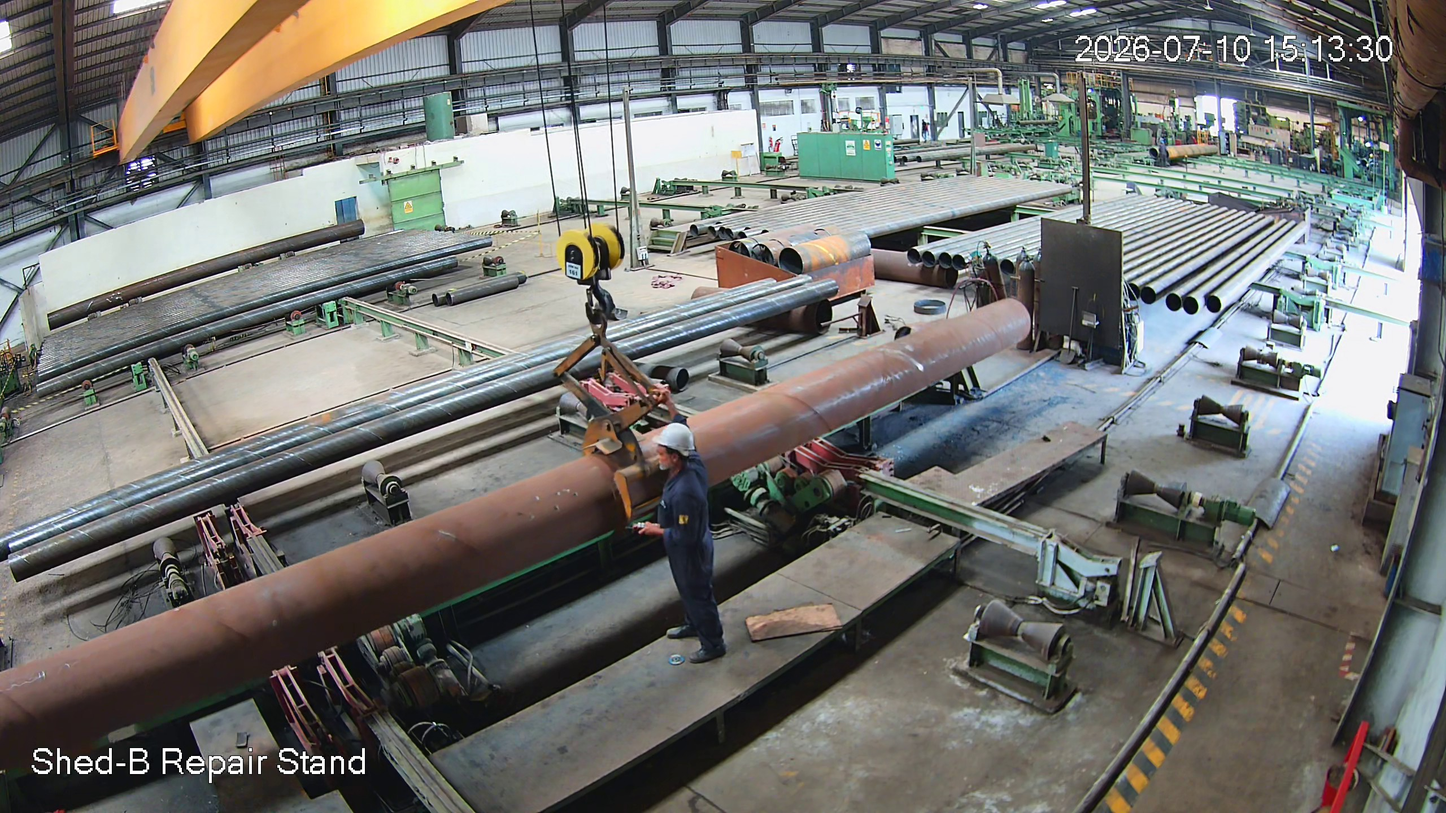Helmet: (646, 423, 717, 492)
Person: (637, 427, 741, 664)
